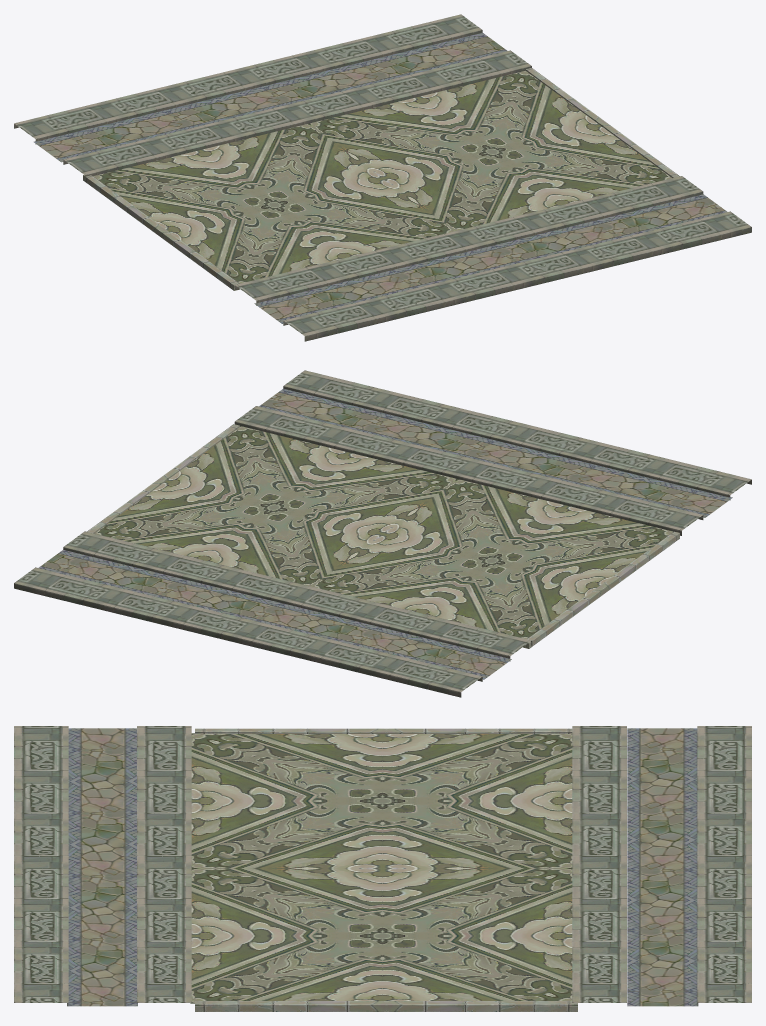
Rendered from szc_building_dimian_quyu04_02.FBX.
The picture shows the model from 3 angles, top to bottom: view 1: azimuth 30°, elevation 25°; view 2: azimuth 150°, elevation 25°; view 3: azimuth 270°, elevation 25°; orthographic projection. The views are drawn at different scales.
Parts seen in each view (by area): view 1: szc_building_dimian_quyu04_02; view 2: szc_building_dimian_quyu04_02; view 3: szc_building_dimian_quyu04_02.
Boxes of the visible parts, x1,y1,x2,y2 form: szc_building_dimian_quyu04_02: (14, 14, 751, 341); szc_building_dimian_quyu04_02: (14, 370, 751, 697); szc_building_dimian_quyu04_02: (14, 726, 751, 1011).
Size of the model in its own units: 570 by 8.59 by 639.
